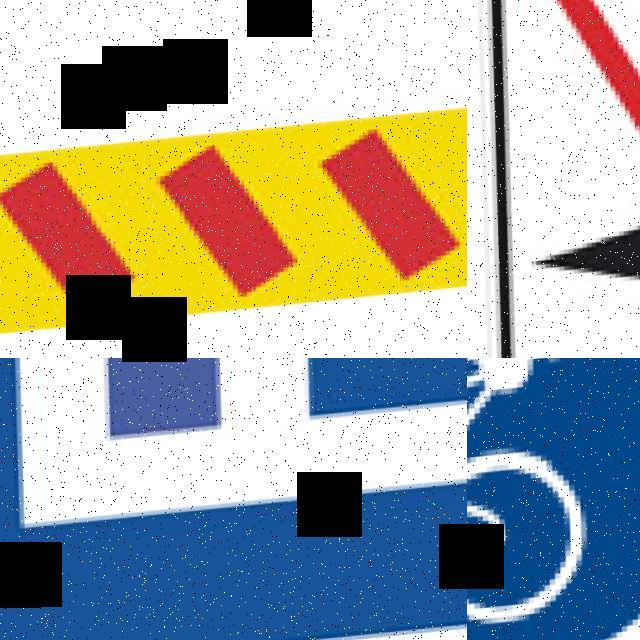128: (467, 0, 640, 358)
4: (0, 107, 467, 341)
86: (0, 358, 467, 640)
Cycle track: (467, 358, 640, 640)
